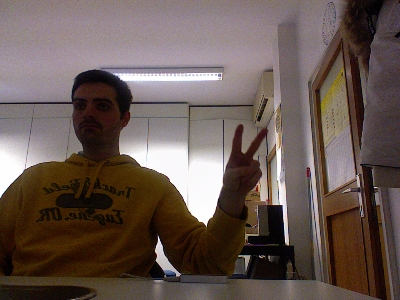剪刀: (221, 122, 268, 196)
